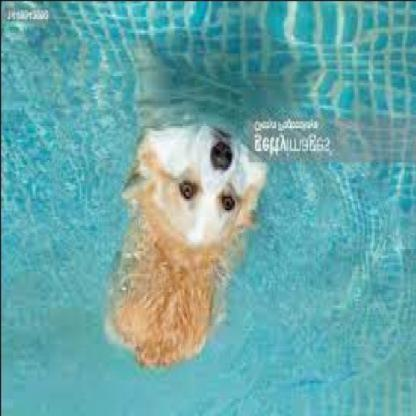dog: (103, 121, 268, 368)
